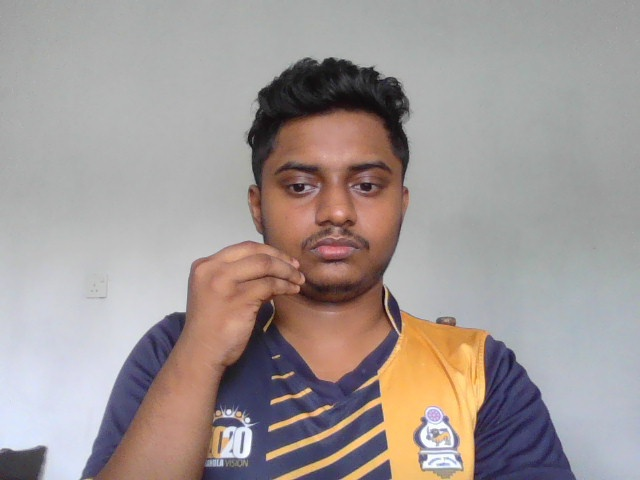Eat: (188, 240, 307, 372)
